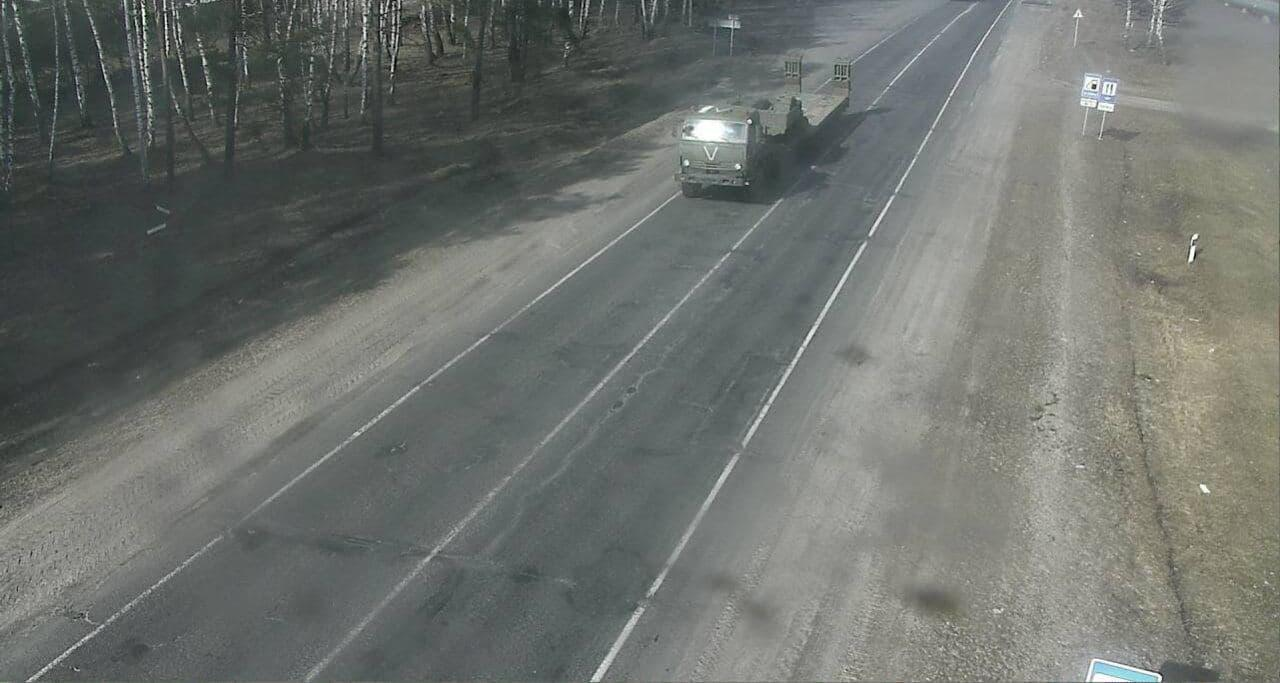truck: (663, 53, 864, 210)
